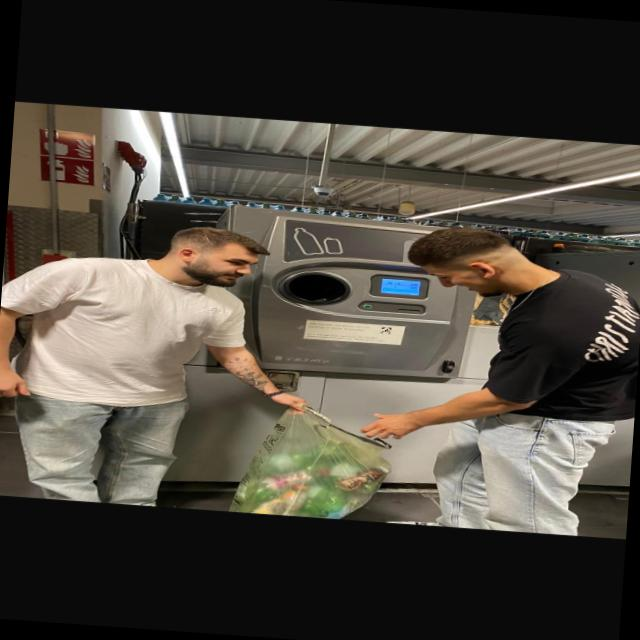Sero: (160, 224, 268, 292)
face: (426, 260, 504, 304)
